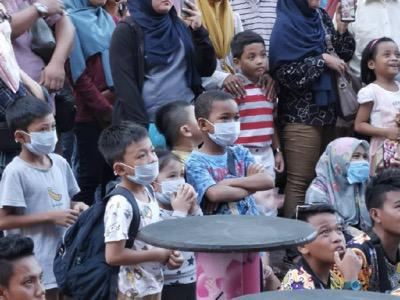mask_weared_incorrect: (123, 143, 160, 186)
with_mask: (24, 118, 59, 156), (207, 110, 241, 148), (154, 168, 186, 205), (345, 150, 371, 183)
without_mask: (304, 221, 349, 263), (3, 266, 46, 300), (241, 47, 267, 76), (373, 50, 399, 78)
